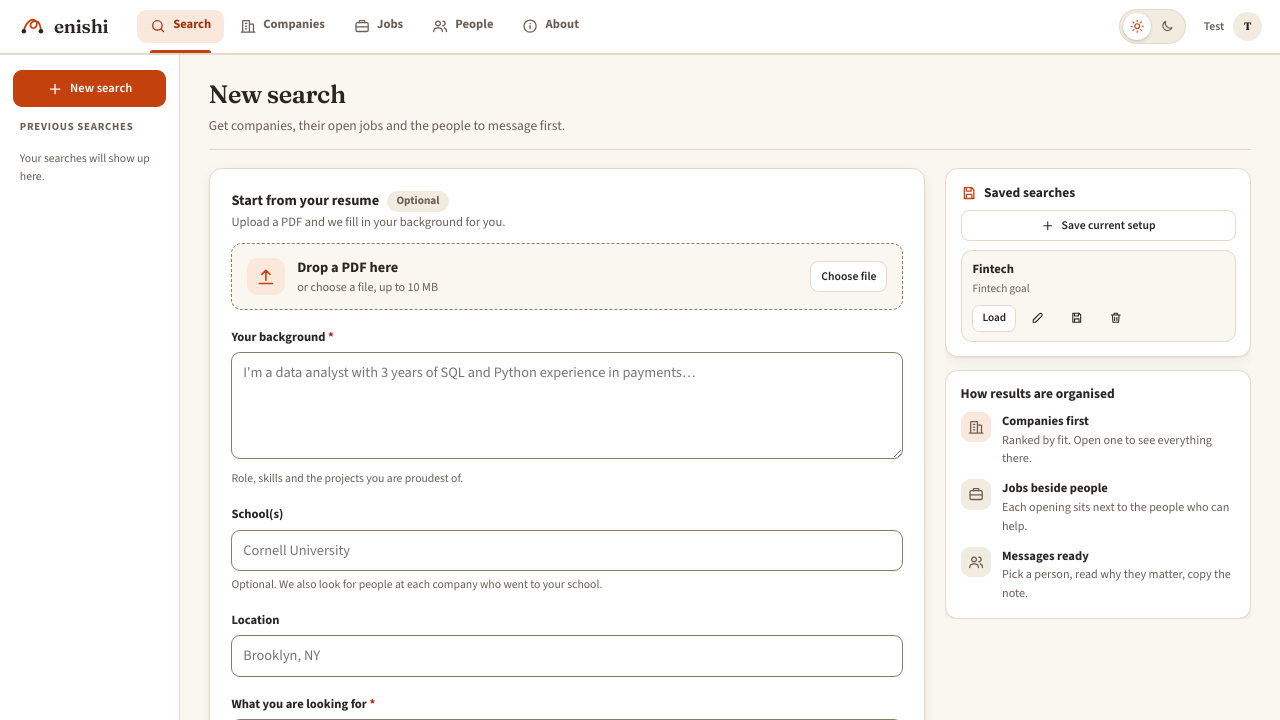
search configurations panel › does not clobber a loaded configuration with late saved params
Click the button with aria-label "Load Fintech" at (994, 318), box [972,305,1016,332]
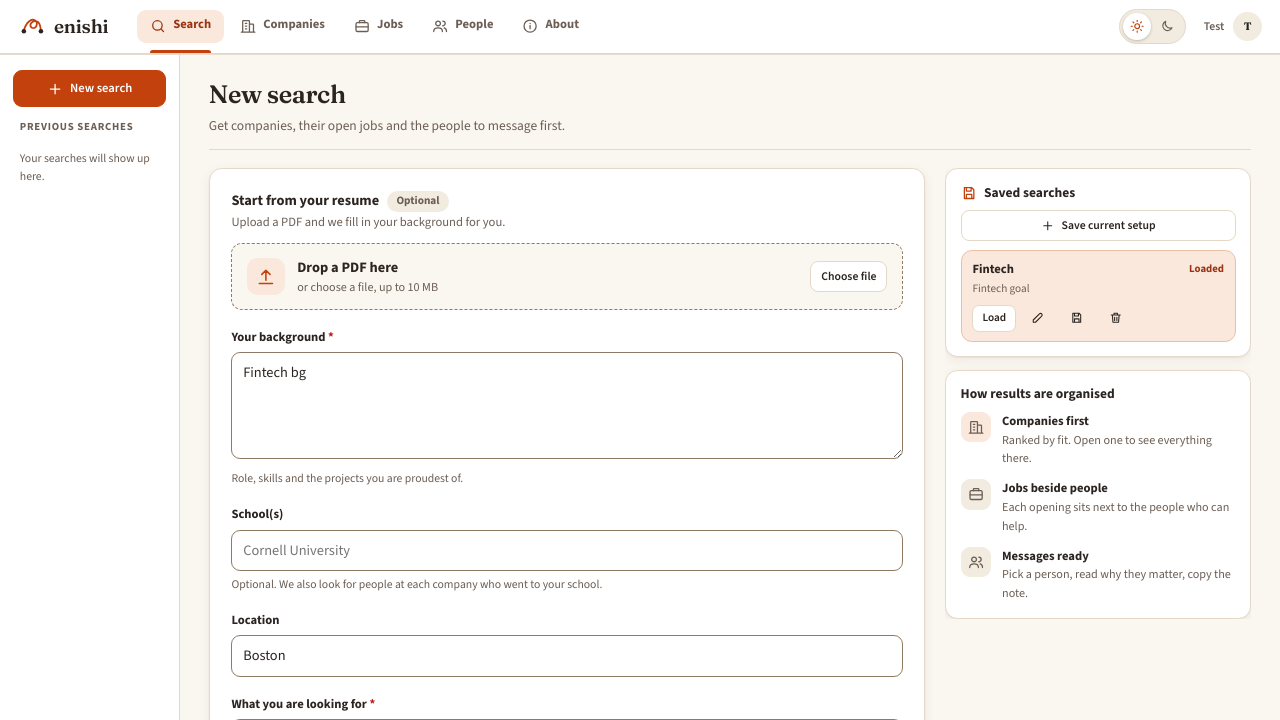
Now the text box showing "Fintech bg" is shown, box [231,352,903,459]
